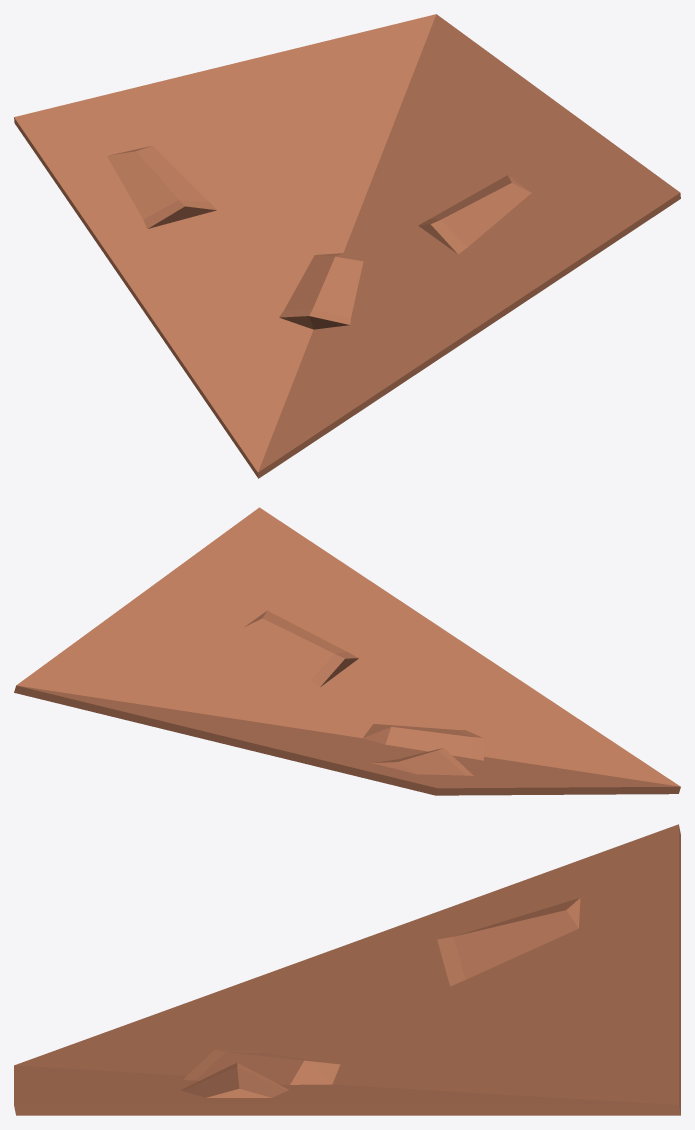
The model's file is SM_Roof_In_Edge_Big_3m_Empire.fbx.
3 renders of one model, top to bottom at view 1: azimuth 30°, elevation 25°; view 2: azimuth 150°, elevation 25°; view 3: azimuth 270°, elevation 25°, orthographic. The views are drawn at different scales.
Parts seen in each view (by area): view 1: SM_Roof_In_Edge_Big_3m_Empire; view 2: SM_Roof_In_Edge_Big_3m_Empire; view 3: SM_Roof_In_Edge_Big_3m_Empire.
Boxes of the visible parts, bbox=[...] form: SM_Roof_In_Edge_Big_3m_Empire: bbox=[14, 14, 680, 478]; SM_Roof_In_Edge_Big_3m_Empire: bbox=[14, 507, 680, 795]; SM_Roof_In_Edge_Big_3m_Empire: bbox=[14, 824, 680, 1115].
Bounding box in the file's own units: 3.01 × 1.25 × 3.01.
